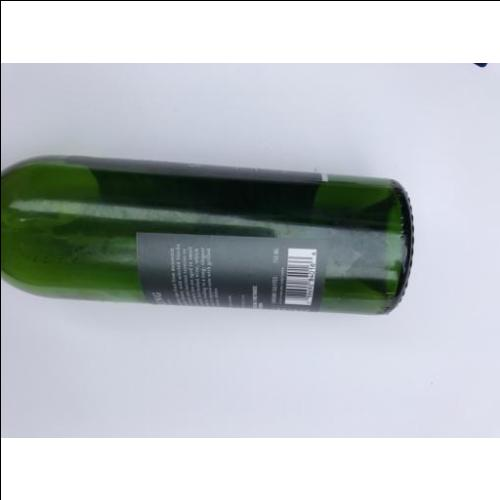glass: (0, 155, 413, 319)
